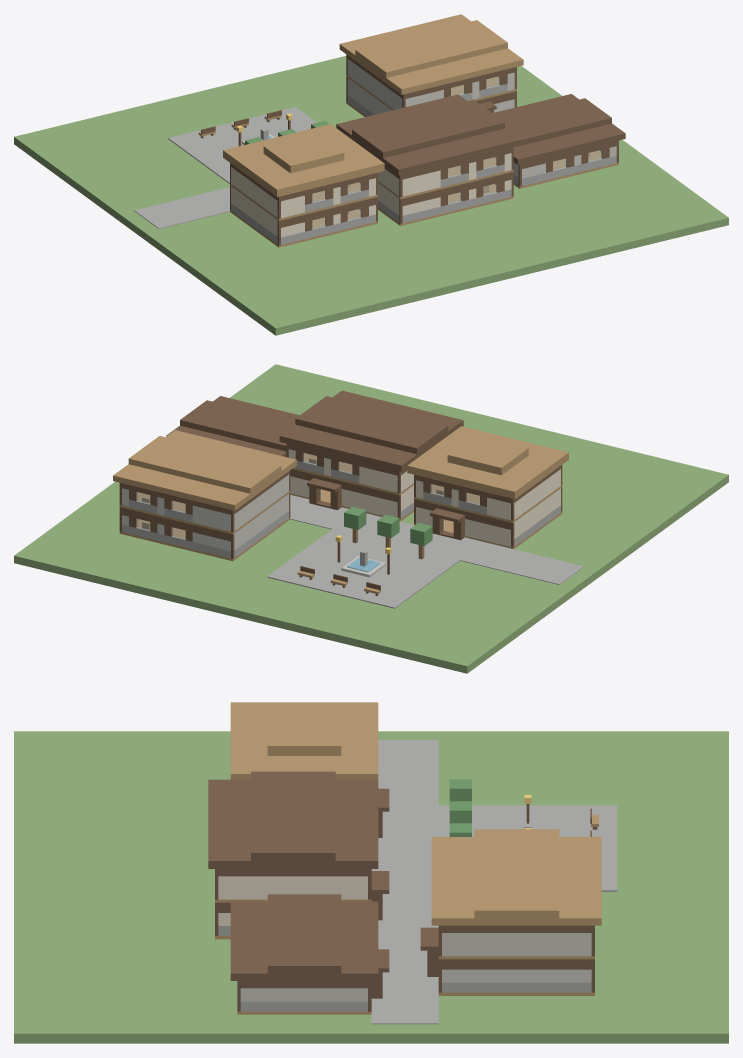
The picture shows the model from 3 angles, top to bottom: view 1: azimuth 30°, elevation 25°; view 2: azimuth 150°, elevation 25°; view 3: azimuth 270°, elevation 25°; orthographic projection. The views are drawn at different scales.
Parts seen in each view (by area): view 1: part_0029, part_0030, part_0022, part_0031, part_0306, part_0015, part_0184, part_0429, part_0428, part_0183, part_0023, part_0001 (+26 smaller); view 2: part_0030, part_0029, part_0523, part_0031, part_0023, part_0306, part_0184, part_0429, part_0428, part_0183, part_0016, part_0111 (+24 smaller); view 3: part_0030, part_0029, part_0064, part_0022, part_0183, part_0428, part_0015, part_0429, part_0184, part_0306, part_0002, part_0023 (+50 smaller).
Boxes of the visible parts, x1=… form: part_0029: x1=159, y1=212, x2=408, y2=332; part_0030: x1=28, y1=104, x2=229, y2=210; part_0022: x1=355, y1=210, x2=531, y2=296; part_0031: x1=14, y1=133, x2=289, y2=335; part_0306: x1=223, y1=124, x2=384, y2=196; part_0015: x1=487, y1=185, x2=616, y2=266; part_0184: x1=352, y1=100, x2=504, y2=158; part_0429: x1=355, y1=20, x2=507, y2=77; part_0428: x1=339, y1=14, x2=523, y2=94; part_0183: x1=336, y1=94, x2=520, y2=175; part_0023: x1=176, y1=74, x2=337, y2=127; part_0001: x1=596, y1=151, x2=714, y2=237; part_0030: x1=334, y1=561, x2=558, y2=670; part_0029: x1=514, y1=442, x2=714, y2=566; part_0523: x1=267, y1=529, x2=460, y2=608; part_0031: x1=453, y1=471, x2=728, y2=673; part_0023: x1=211, y1=526, x2=346, y2=634; part_0306: x1=407, y1=426, x2=568, y2=499; part_0184: x1=295, y1=396, x2=448, y2=454; part_0429: x1=128, y1=436, x2=281, y2=493; part_0428: x1=113, y1=430, x2=296, y2=510; part_0183: x1=279, y1=390, x2=463, y2=471; part_0016: x1=126, y1=547, x2=230, y2=604; part_0111: x1=180, y1=400, x2=295, y2=451; part_0030: x1=438, y1=741, x2=728, y2=820; part_0029: x1=14, y1=741, x2=230, y2=820; part_0064: x1=14, y1=1024, x2=728, y2=1043; part_0022: x1=14, y1=839, x2=214, y2=902; part_0183: x1=208, y1=779, x2=378, y2=868; part_0428: x1=431, y1=837, x2=601, y2=925; part_0015: x1=14, y1=921, x2=230, y2=958; part_0429: x1=474, y1=829, x2=559, y2=918; part_0184: x1=251, y1=771, x2=335, y2=860; part_0306: x1=230, y1=702, x2=378, y2=779; part_0002: x1=438, y1=999, x2=728, y2=1024; part_0023: x1=601, y1=839, x2=728, y2=902.
Bounding box in the file's own units: 64 × 10.2 × 64.
